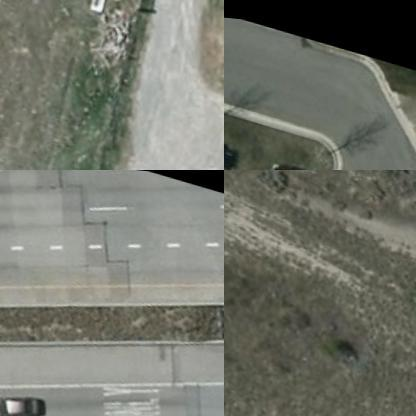car: (0, 380, 53, 415), (269, 159, 338, 169)
